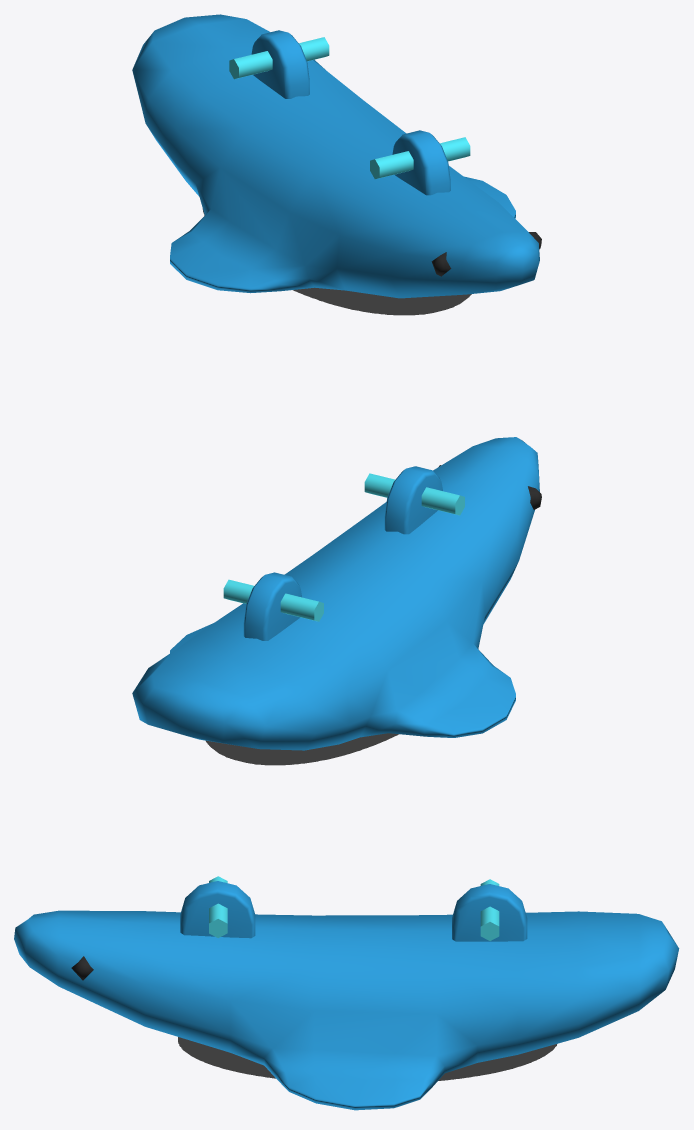
The model's file is plastic_roll_01.DAE.
3 renders of one model, top to bottom at view 1: azimuth 30°, elevation 25°; view 2: azimuth 150°, elevation 25°; view 3: azimuth 270°, elevation 25°, orthographic. The views are drawn at different scales.
Visible parts, largest first — view 1: plastic_roll_01, sd_plastic_roll_01; view 2: plastic_roll_01, sd_plastic_roll_01; view 3: plastic_roll_01, sd_plastic_roll_01.
Part boxes in pixels (x1,y1,x2,y2): plastic_roll_01: (132, 14, 541, 298); sd_plastic_roll_01: (202, 208, 471, 315); plastic_roll_01: (132, 437, 541, 750); sd_plastic_roll_01: (206, 733, 398, 765); plastic_roll_01: (14, 876, 679, 1110); sd_plastic_roll_01: (178, 1037, 556, 1080).
Size of the model in its own units: 1002 by 1826 by 474.
Materials: 2 (2 with a texture image).
